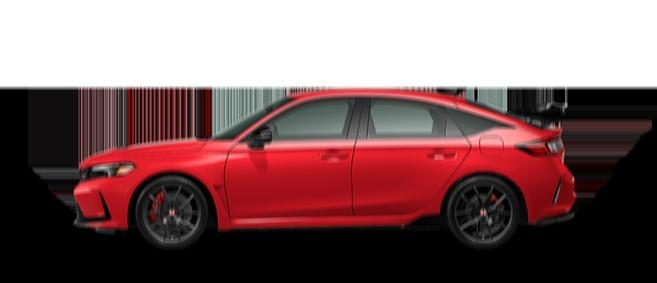Car hood: (77, 136, 208, 171)
Fender - -F-L-: (137, 146, 234, 232)
Fender - -R-L-: (441, 121, 537, 228)
Front bumper: (67, 181, 132, 239)
Headlight - -L-: (77, 158, 144, 186)
Passenger-s door - -F-L-: (224, 88, 353, 222)
Passenger-s door - -R-L-: (354, 93, 476, 221)
Rear light - -L-: (520, 168, 587, 230), (509, 134, 566, 163)
Side bumper - -L-: (216, 209, 444, 236)
Side mirror - -L-: (246, 123, 278, 155)
